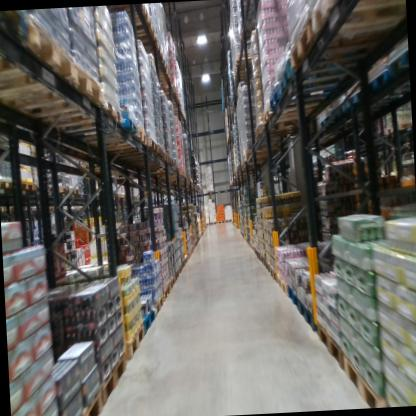pallet: (283, 10, 408, 78), (0, 19, 78, 111), (11, 54, 103, 125), (306, 0, 404, 40), (40, 96, 123, 142), (276, 55, 353, 104), (262, 76, 358, 111), (344, 348, 387, 409), (357, 58, 404, 106), (250, 113, 311, 145), (80, 108, 140, 140), (96, 349, 128, 409), (81, 125, 147, 150), (101, 4, 153, 35), (0, 13, 34, 58), (316, 317, 341, 375), (123, 318, 147, 367), (72, 382, 102, 416), (99, 136, 156, 153), (296, 293, 320, 329), (261, 104, 310, 121), (341, 84, 367, 116), (235, 22, 265, 48), (137, 303, 157, 338), (231, 50, 264, 69), (384, 119, 412, 141), (12, 173, 35, 196), (276, 267, 292, 299), (316, 110, 339, 132), (150, 292, 164, 321), (158, 283, 172, 308), (287, 282, 299, 311), (53, 177, 70, 197), (0, 174, 17, 193), (329, 99, 344, 120), (263, 254, 273, 276), (48, 200, 64, 213), (269, 262, 277, 286), (335, 144, 345, 161), (255, 246, 263, 263), (173, 267, 180, 285), (327, 150, 335, 165), (70, 184, 82, 194), (169, 274, 175, 293), (177, 261, 183, 276), (261, 254, 267, 267), (217, 218, 225, 225), (209, 220, 217, 227), (202, 220, 210, 227), (183, 254, 188, 263), (225, 218, 232, 223), (182, 257, 185, 268)
